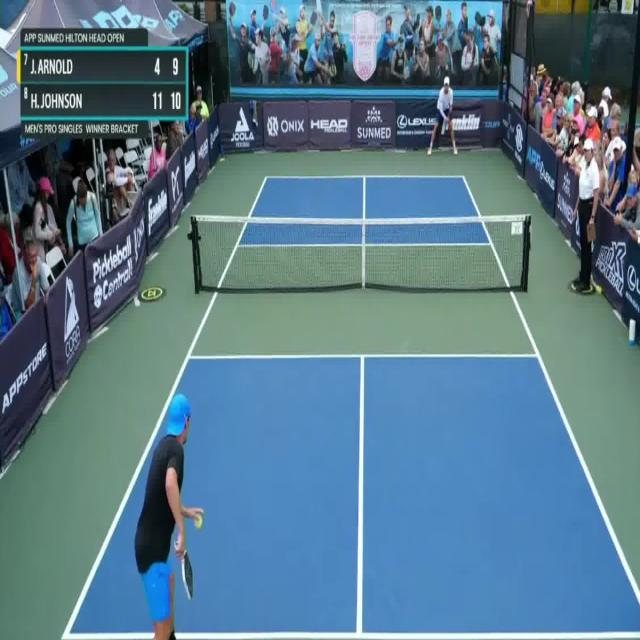Court: (64, 174, 640, 636)
ball: (192, 510, 205, 532)
